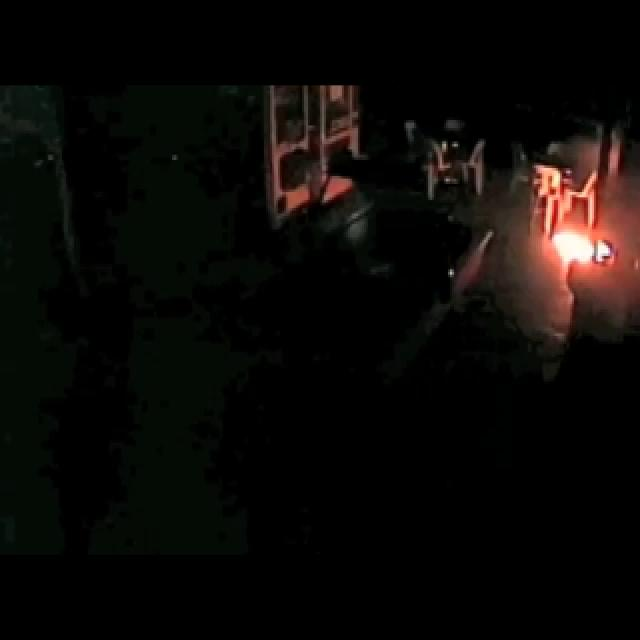arson: (322, 0, 640, 343)
